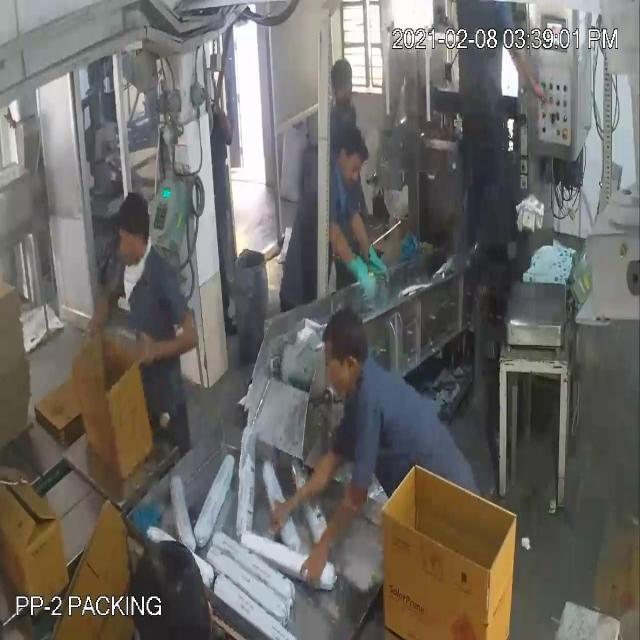No_Gloves: (44, 73, 334, 530)
